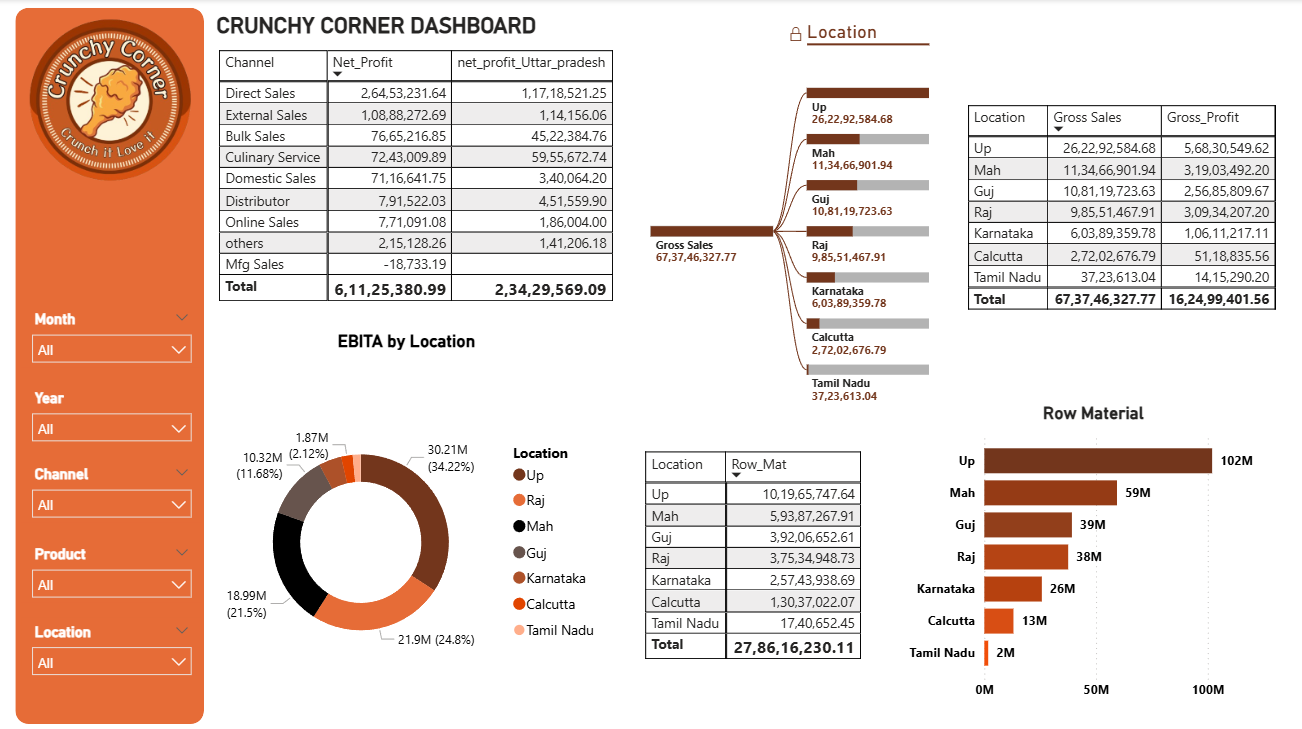

Layout of this report page (visuals, bound fields, positions):
{"tool":"powerbi","page":{"name":"Page 3","canvas":[1280,720],"ordinal":2},"visuals":[{"type":"shape","box":[15.9,8.6,184.6,700.7],"z":0},{"type":"image","box":[6.1,0,204.2,199.3],"z":1000},{"type":"group","id":"g1","title":"Group 1","box":[21.8,299.6,174.9,368.1],"z":2000},{"type":"textbox","box":[207.9,8.6,454.9,36.7],"z":3000},{"type":"pivotTable","fields":{"Values":["measure.Net_Profit","measure.net_profit_Uttar_pradesh"],"Rows":["Channel.Channel"]},"box":[210.3,45.2,397.4,269],"z":4000},{"type":"donutChart","fields":{"Category":["Location.Location"],"Y":["measure.EBITA"]},"box":[200.5,324.1,396.2,396.2],"z":5000},{"type":"pivotTable","fields":{"Rows":["Location.Location"],"Values":["measure.Row_Mat"]},"box":[627.3,437.8,225,229.9],"z":6000},{"type":"slicer","fields":{"Values":["Date.Month"]},"box":[21.8,299.6,176.1,61.1],"z":7000,"group":"g1"},{"type":"decompositionTreeVisual","fields":{"ExplainBy":["Location.Location"],"Analyze":["measure.Gross Sales"]},"box":[607.7,8.6,348.5,429.2],"z":7000},{"type":"slicer","fields":{"Values":["Date.Year"]},"box":[21.8,376.6,176.1,61.1],"z":8000,"group":"g1"},{"type":"tableEx","fields":{"Values":["Location.Location","measure.Gross Sales","measure.Gross_Profit"]},"box":[941.6,99,315.5,215.2],"z":8000},{"type":"clusteredBarChart","title":"Row Material","fields":{"Category":["Location.Location"],"Y":["measure.Row_Mat"]},"box":[884.1,395,373,299.6],"z":9000},{"type":"slicer","fields":{"Values":["Channel.Channel"]},"box":[21.8,451.2,176.1,61.1],"z":10000,"group":"g1"},{"type":"slicer","fields":{"Values":["Dim Product.Product"]},"box":[21.8,529.5,176.1,61.1],"z":11000,"group":"g1"},{"type":"slicer","fields":{"Values":["Location.Location"]},"box":[21.8,605.3,176.1,61.1],"z":12000,"group":"g1"}]}

Visuals, with their boxes in screenshot pixels (x1, y1, x2, y2), scaled from the page's 1280x720 canvas onto the 1302x729 screenshot:
shape: BBox(16, 9, 204, 718)
image: BBox(6, 0, 214, 202)
"Group 1" group: BBox(22, 303, 200, 676)
textbox: BBox(211, 9, 674, 46)
pivotTable - measure.Net_Profit x measure.net_profit_Uttar_pradesh: BBox(214, 46, 618, 318)
donutChart - Location.Location x measure.EBITA: BBox(204, 328, 607, 728)
pivotTable - Location.Location x measure.Row_Mat: BBox(638, 443, 867, 676)
slicer - Date.Month: BBox(22, 303, 201, 365)
decompositionTreeVisual - Location.Location x measure.Gross Sales: BBox(618, 9, 973, 443)
slicer - Date.Year: BBox(22, 381, 201, 443)
tableEx - Location.Location x measure.Gross Sales: BBox(958, 100, 1279, 318)
"Row Material" clusteredBarChart: BBox(899, 400, 1279, 703)
slicer - Channel.Channel: BBox(22, 457, 201, 519)
slicer - Dim Product.Product: BBox(22, 536, 201, 598)
slicer - Location.Location: BBox(22, 613, 201, 675)
